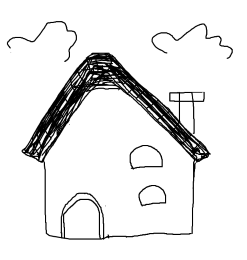chimney: (164, 83, 208, 135)
clouds: (5, 19, 78, 64), (151, 22, 234, 61)
door: (56, 187, 107, 245)
open_window: (125, 141, 170, 173), (133, 180, 172, 209)
shaded_roof: (21, 50, 211, 163)
wall: (39, 87, 199, 242)
